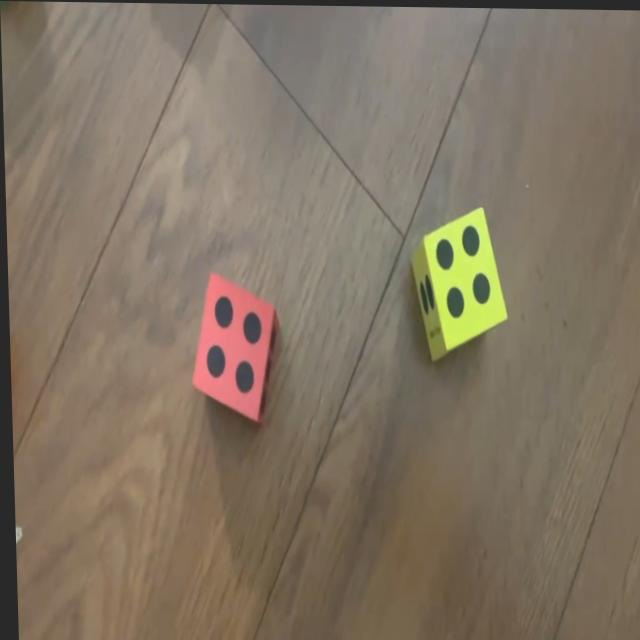red_block: (188, 269, 277, 420)
